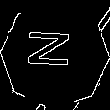N_E: (29, 34, 81, 76)
